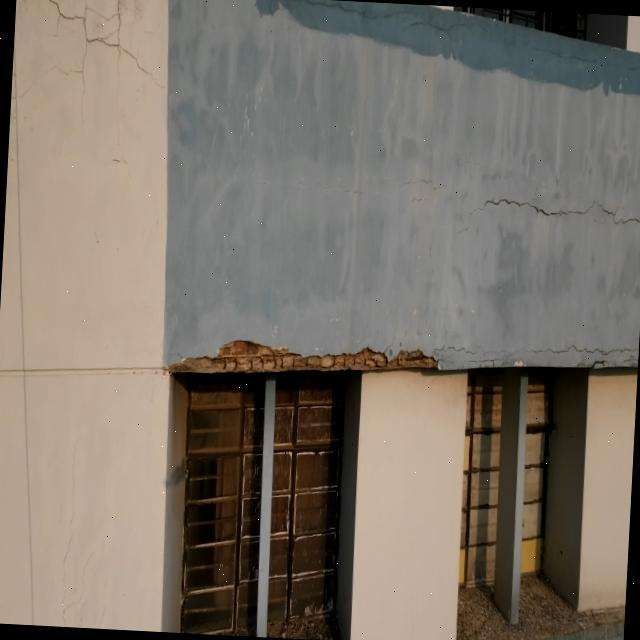crack: (256, 0, 640, 96), (11, 0, 159, 114), (471, 199, 640, 230), (432, 346, 639, 370)
spalling: (168, 340, 438, 373)
